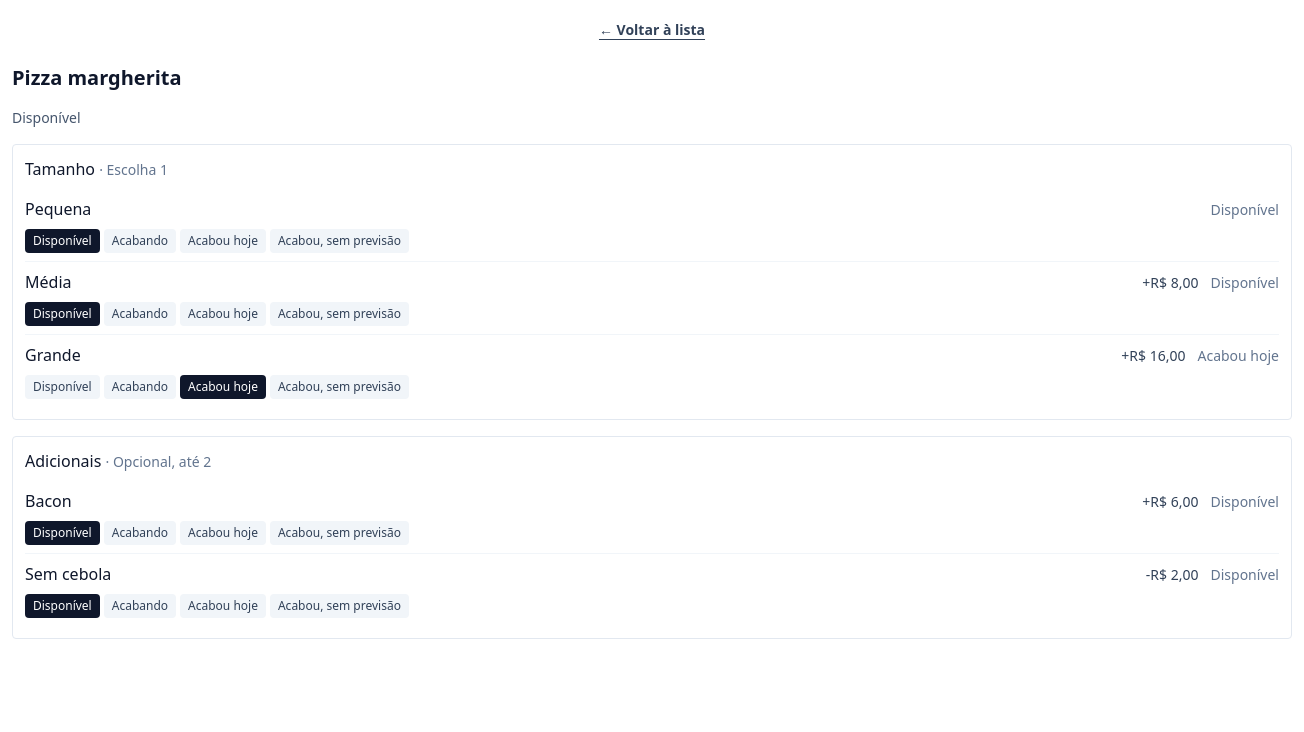
Test: ProdutoAberto › 6 · a recusa da marcação é a mesma Recusa da W-C › 409 mostra o detail do servidor, e oferece recarregar o produto
The width and height of the screenshot is (1304, 732).
Expected: the heading "Pizza margherita" is shown, x1=12 y1=64 x2=182 y2=92
Click the button "Acabou hoje" below "Média": (223, 314) x1=180 y1=302 x2=266 y2=326
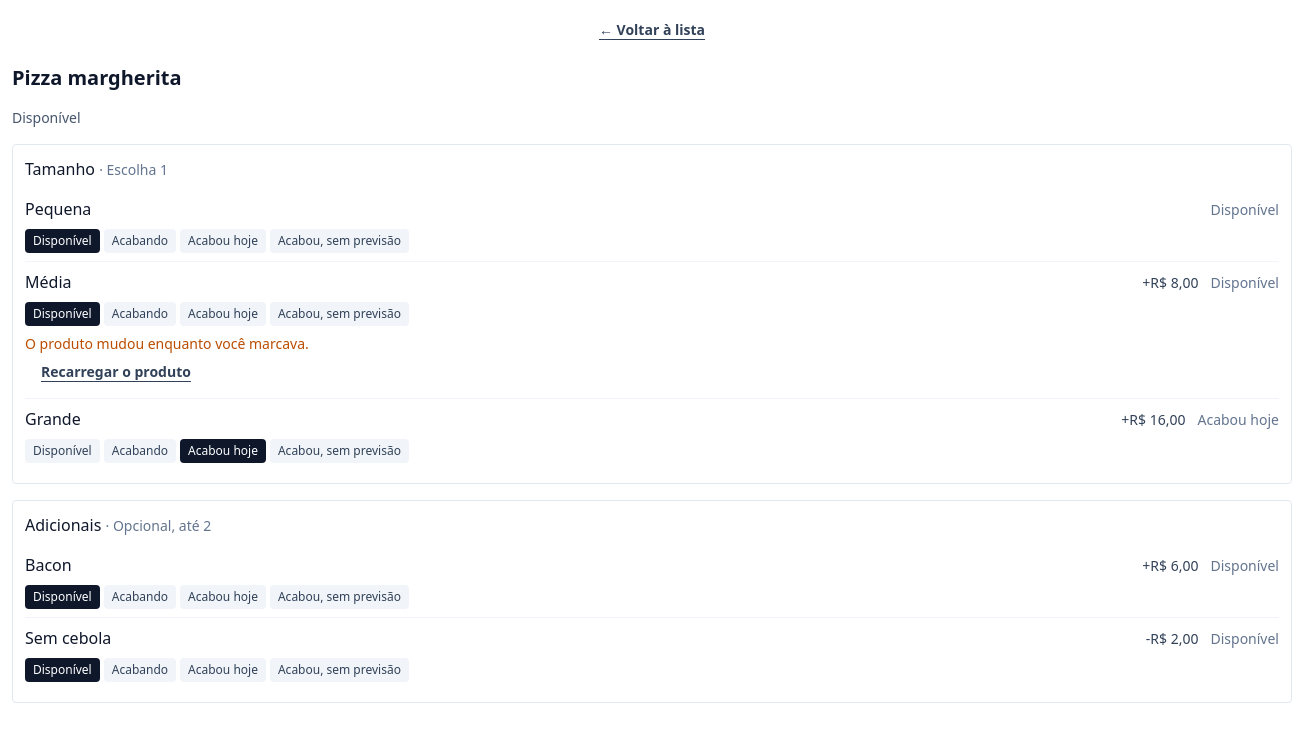
Now the message shows "O produto mudou enquanto você marcava.", box x1=25 y1=334 x2=309 y2=353
Now the button "Recarregar o produto" is shown, box x1=25 y1=354 x2=207 y2=390
